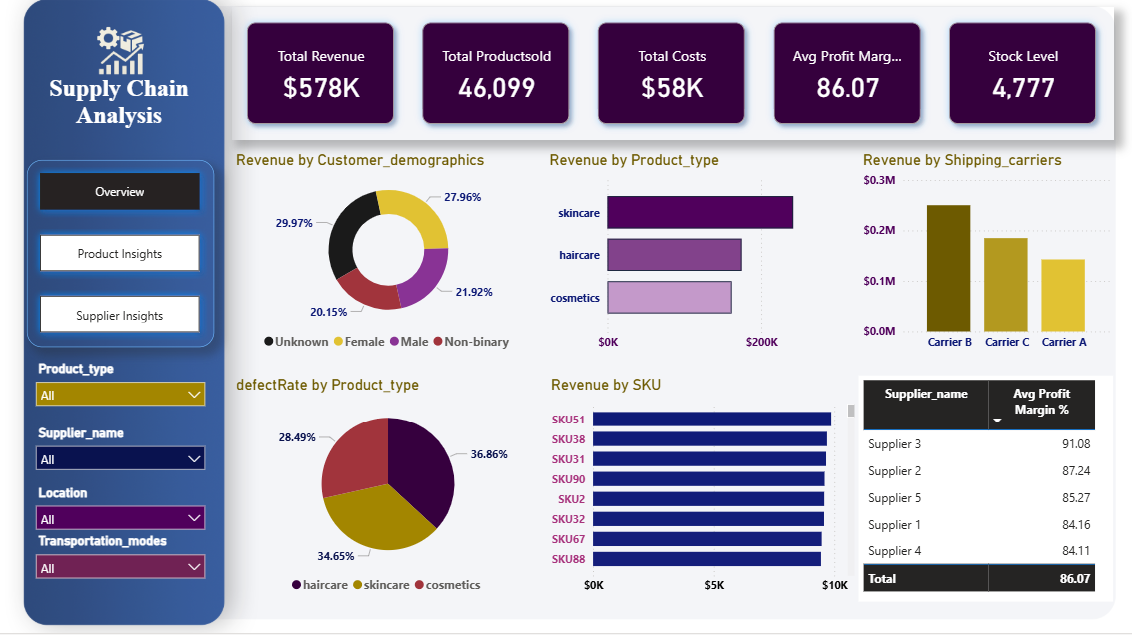

What the dashboard file says about the page in this screenshot:
{"tool":"powerbi","page":{"name":"Overview","canvas":[1280,720],"ordinal":0},"visuals":[{"type":"cardVisual","fields":{"Data":["Key Metrics.Total Revenue","Key Metrics.Total Productsold","Key Metrics.Total Costs","Key Metrics.Avg Profit Margin %","Key Metrics.Stock Level"]},"box":[263.2,16.1,990.3,148.7],"z":0},{"type":"donutChart","title":" Revenue by Customer_demographics","fields":{"Y":["Key Metrics.Total Revenue"],"Category":["supply_chain_data.Customer_demographics"]},"box":[263.2,176.8,351.5,233],"z":1000},{"type":"pieChart","title":"defectRate by Product_type","fields":{"Y":["Key Metrics.Avg defectRate"],"Category":["supply_chain_data.Product_type"]},"box":[263.6,428.9,350.7,254.7],"z":2000},{"type":"clusteredBarChart","title":" Revenue by Product_type","fields":{"Category":["supply_chain_data.Product_type"],"Y":["Key Metrics.Total Revenue"]},"box":[614.7,176.8,351.5,233],"z":3000},{"type":"clusteredBarChart","title":"Revenue by SKU","fields":{"Y":["Key Metrics.Total Revenue"],"Category":["supply_chain_data.SKU"]},"box":[616.5,428.9,350.7,254.7],"z":4000},{"type":"columnChart","title":"Revenue by Shipping_carriers","fields":{"Y":["Key Metrics.Total Revenue"],"Category":["supply_chain_data.Shipping_carriers"]},"box":[966.2,176.8,287.3,233],"z":5000},{"type":"tableEx","fields":{"Values":["supply_chain_data.Supplier_name","Key Metrics.Avg Profit Margin %"]},"box":[967.3,428.9,285.9,254.7],"z":6000},{"type":"textbox","box":[44.7,87.1,185.4,89.4],"z":7000},{"type":"pageNavigator","box":[33.5,187.6,210,210],"z":8000},{"type":"slicer","fields":{"Values":["supply_chain_data.Location"]},"box":[33.5,547.3,210,73.7],"z":8001},{"type":"slicer","fields":{"Values":["supply_chain_data.Supplier_name"]},"box":[33.5,480.3,210,67],"z":8002},{"type":"slicer","fields":{"Values":["supply_chain_data.Product_type"]},"box":[33.5,408.8,210,62.5],"z":8003},{"type":"slicer","fields":{"Values":["supply_chain_data.Transportation_modes"]},"box":[33.5,603.1,210,80.4],"z":8005},{"type":"image","box":[82.7,0,113.9,118.4],"z":8006}]}

Visuals, with their boxes in screenshot pixels (x1, y1, x2, y2), scaled from the page's 1280x720 canvas onto the 1132x635 screenshot:
cardVisual - Key Metrics.Total Revenue x Key Metrics.Total Productsold: <region>233, 14, 1109, 145</region>
" Revenue by Customer_demographics" donutChart: <region>233, 156, 544, 361</region>
"defectRate by Product_type" pieChart: <region>233, 378, 543, 603</region>
" Revenue by Product_type" clusteredBarChart: <region>544, 156, 854, 361</region>
"Revenue by SKU" clusteredBarChart: <region>545, 378, 855, 603</region>
"Revenue by Shipping_carriers" columnChart: <region>854, 156, 1109, 361</region>
tableEx - supply_chain_data.Supplier_name x Key Metrics.Avg Profit Margin %: <region>855, 378, 1108, 603</region>
textbox: <region>40, 77, 203, 156</region>
pageNavigator: <region>30, 165, 215, 351</region>
slicer - supply_chain_data.Location: <region>30, 483, 215, 548</region>
slicer - supply_chain_data.Supplier_name: <region>30, 424, 215, 483</region>
slicer - supply_chain_data.Product_type: <region>30, 361, 215, 416</region>
slicer - supply_chain_data.Transportation_modes: <region>30, 532, 215, 603</region>
image: <region>73, 0, 174, 104</region>
